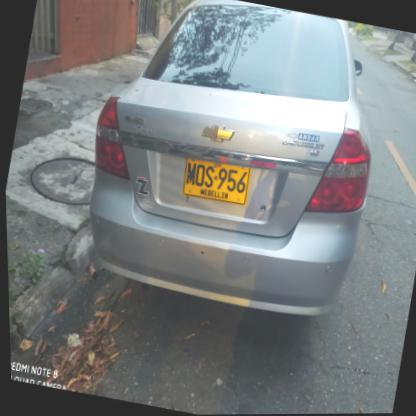placa: (173, 150, 255, 210)
